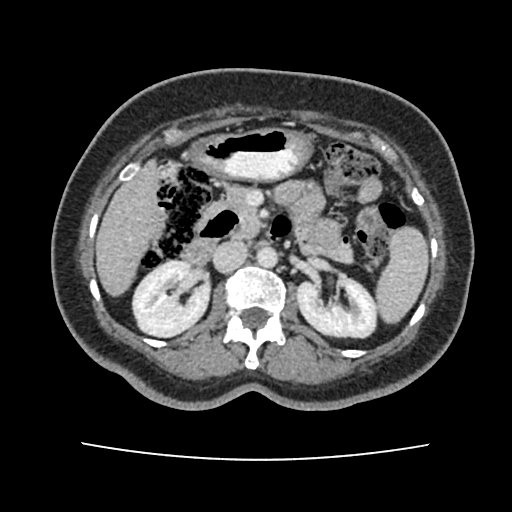aorta: (253, 245, 280, 269)
